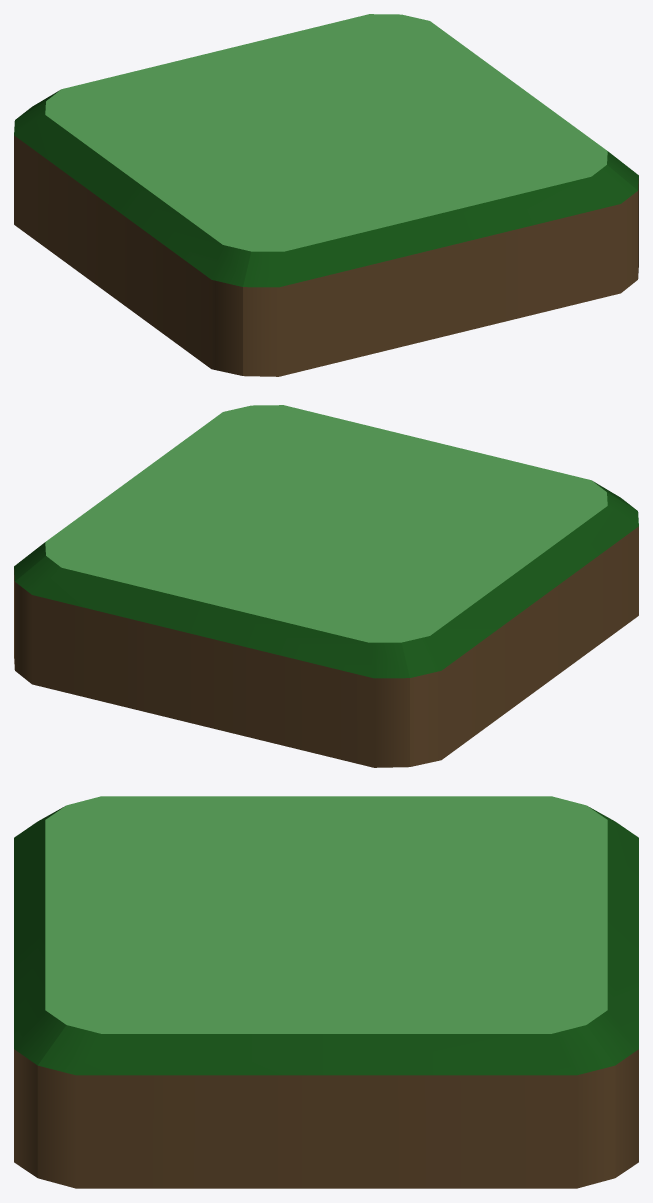
File: Tile_Grass.fbx
3 renders of one model, top to bottom at view 1: azimuth 30°, elevation 25°; view 2: azimuth 150°, elevation 25°; view 3: azimuth 270°, elevation 25°, orthographic. The views are drawn at different scales.
Visible parts, largest first — view 1: grassTile; view 2: grassTile; view 3: grassTile.
Boxes of the visible parts, bbox=[...] form: grassTile: bbox=[14, 14, 638, 376]; grassTile: bbox=[14, 405, 638, 767]; grassTile: bbox=[14, 796, 638, 1188].
Bounding box in the file's own units: 0.3937 × 0.0984 × 0.3937.
